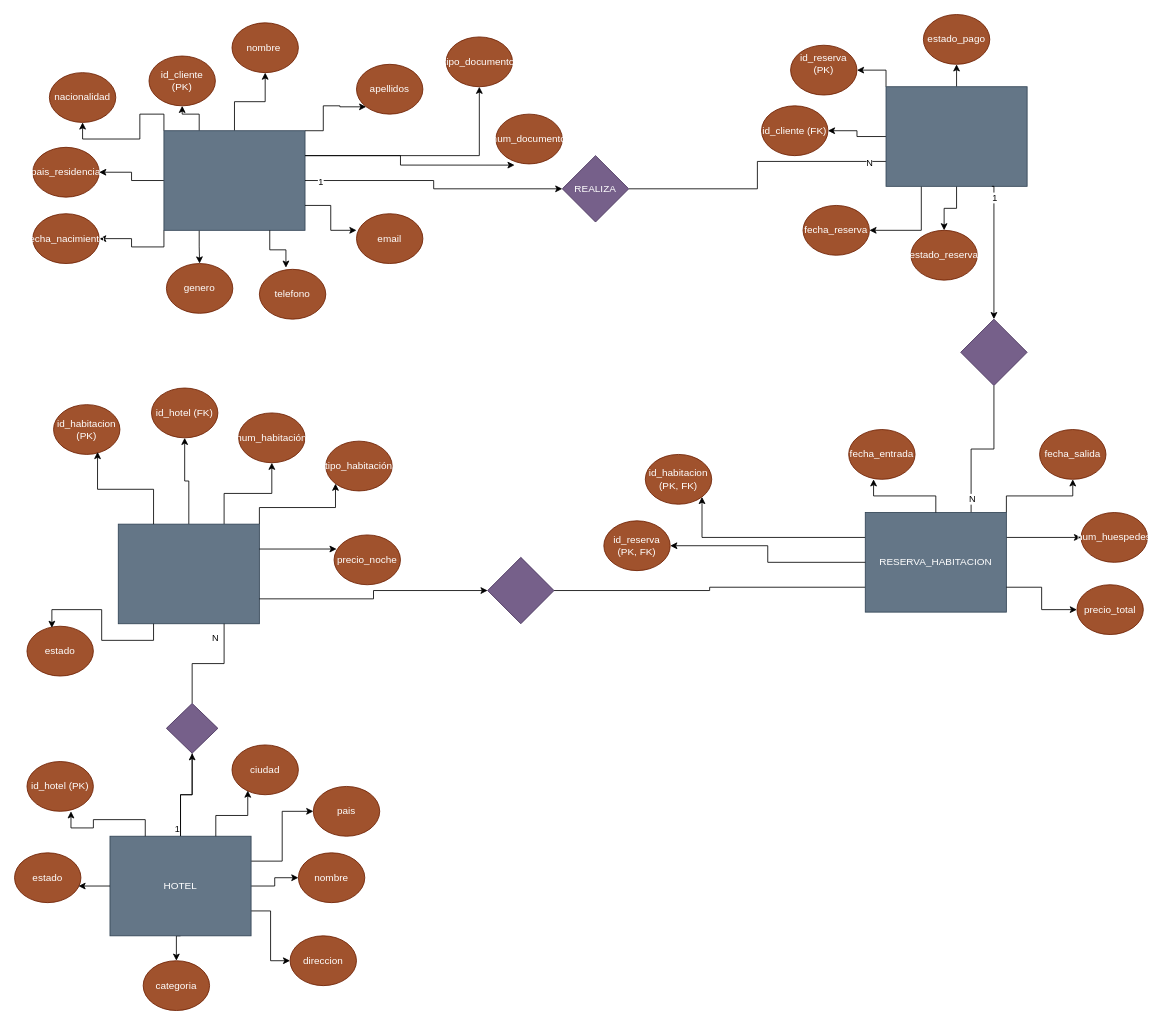
Some shapes in this 1165 by 1025 pixel diagram are drawn without their labels. Here are the shapes that lost their labels. From the top down, the centre of each, then its label:
point (956, 136): RESERVA
point (234, 180): CLIENTE
point (993, 352): INCLUYE
point (188, 573): HABITACIÓN
point (520, 590): ES ASIGNADA
point (192, 728): TIENE
